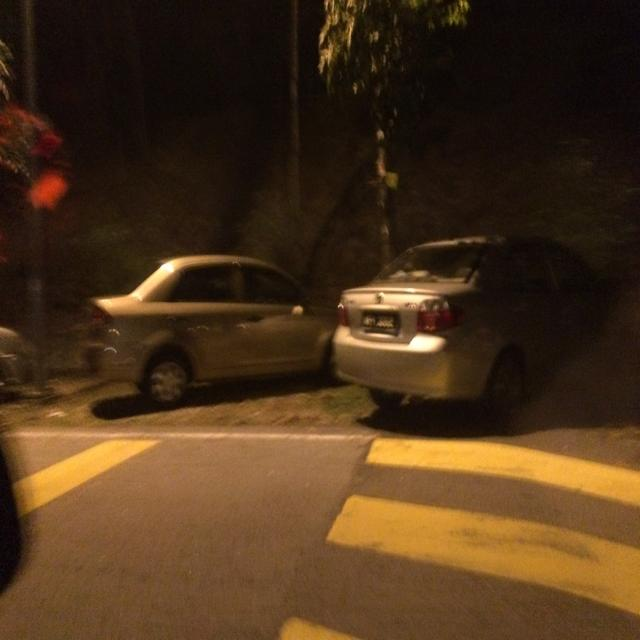Car: (34, 208, 329, 452), (328, 234, 602, 452)
